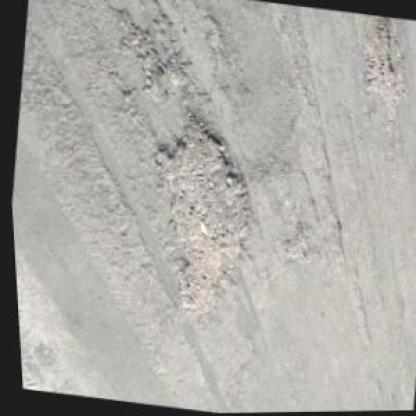pothole: (124, 104, 274, 333), (345, 16, 415, 141), (137, 46, 194, 112), (275, 218, 312, 269)
